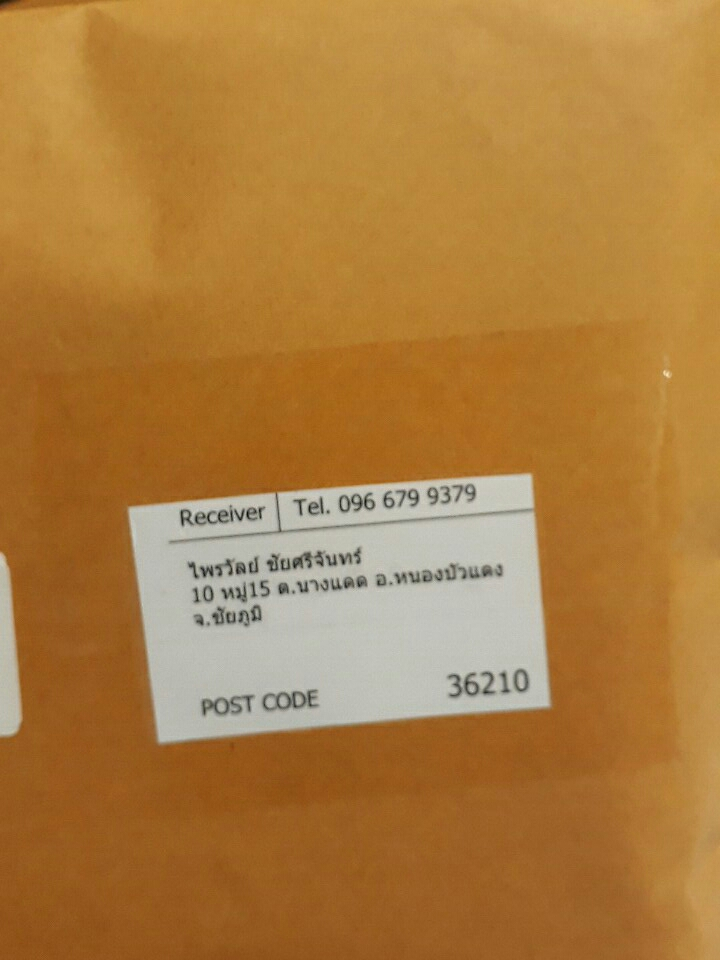txt: (148, 483, 538, 731)
